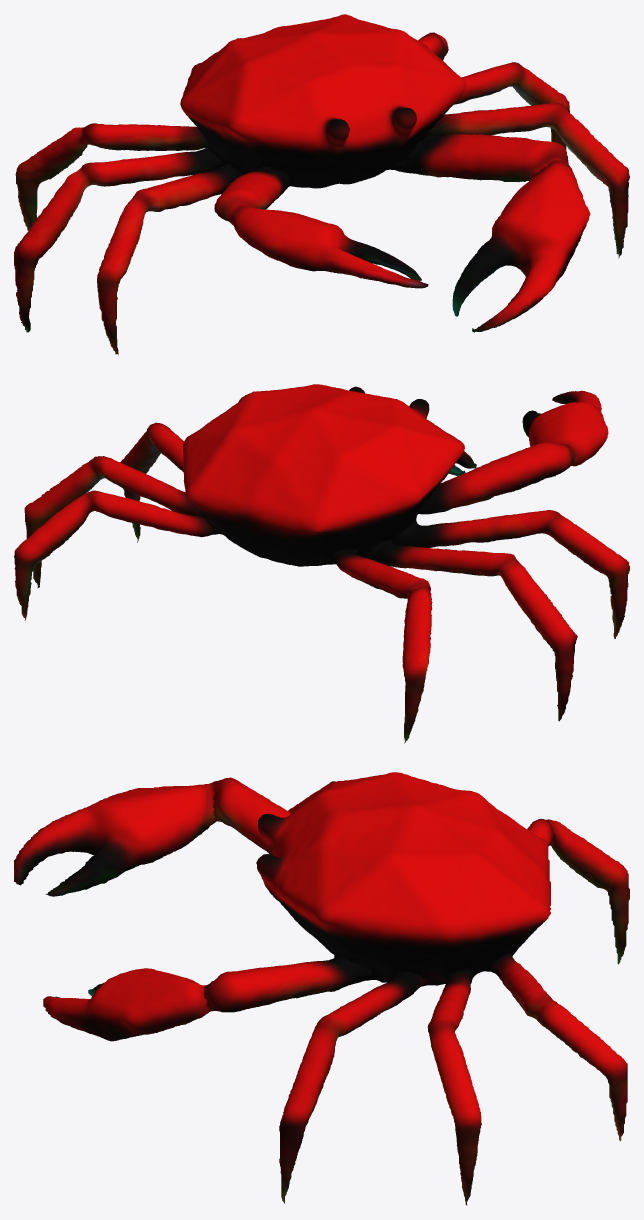
File: 44930695_sept18_hero18_103a_crab,_low_poly_1step.glb
The picture shows the model from 3 angles, top to bottom: view 1: azimuth 30°, elevation 25°; view 2: azimuth 150°, elevation 25°; view 3: azimuth 270°, elevation 25°; orthographic projection. The views are drawn at different scales.
Visible parts, largest first — view 1: world; view 2: world; view 3: world.
Part boxes in pixels (box(x1,y1,x2,y2)): world: box(14, 14, 629, 354); world: box(14, 384, 629, 743); world: box(14, 772, 629, 1205).
Size of the model in its own units: 4.56 by 1.91 by 3.95.
